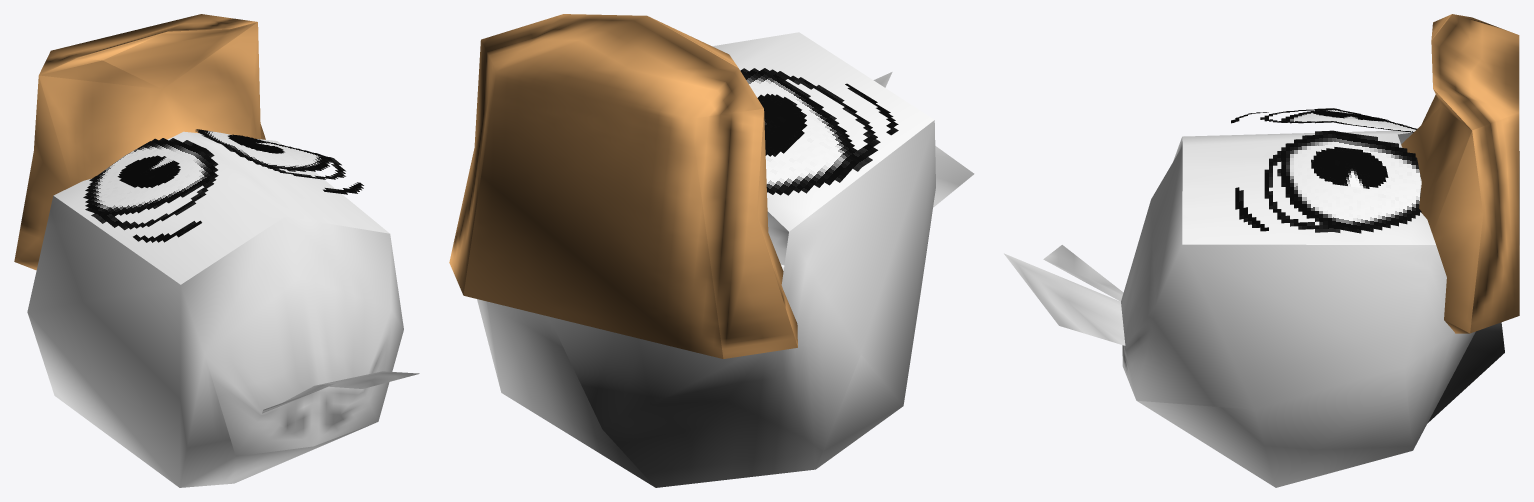
Rendered from fss_250.glb.
3 views of the same model, side by side, from view 1: azimuth 30°, elevation 25°; view 2: azimuth 150°, elevation 25°; view 3: azimuth 270°, elevation 25° (orthographic). The views are drawn at different scales.
Parts seen in each view (by area): view 1: head-short, muzzle-short-neutral, head-front-short, eyes-short, joint_pupilL_short, joint_pupilR_short; view 2: muzzle-short-neutral, head-short, head-front-short, eyes-short, joint_pupilL_short; view 3: head-short, muzzle-short-neutral, head-front-short, eyes-short, joint_pupilR_short.
Boxes of the visible parts, x1,y1,x2,y2 form: head-short: (27,196,419,487); muzzle-short-neutral: (14,14,265,270); head-front-short: (53,131,389,284); eyes-short: (83,129,363,242); joint_pupilL_short: (117,155,180,188); joint_pupilR_short: (228,134,284,153); muzzle-short-neutral: (449,14,797,358); head-short: (477,72,974,487); head-front-short: (712,32,934,231); eyes-short: (740,68,898,195); joint_pupilL_short: (757,93,807,156); head-short: (1004,132,1504,487); muzzle-short-neutral: (1401,14,1519,333); head-front-short: (1182,130,1435,244); eyes-short: (1231,108,1421,233); joint_pupilR_short: (1311,147,1388,188).
Size of the model in its own units: 1.29 by 1.63 by 1.79.
5 materials, 5 textured.
